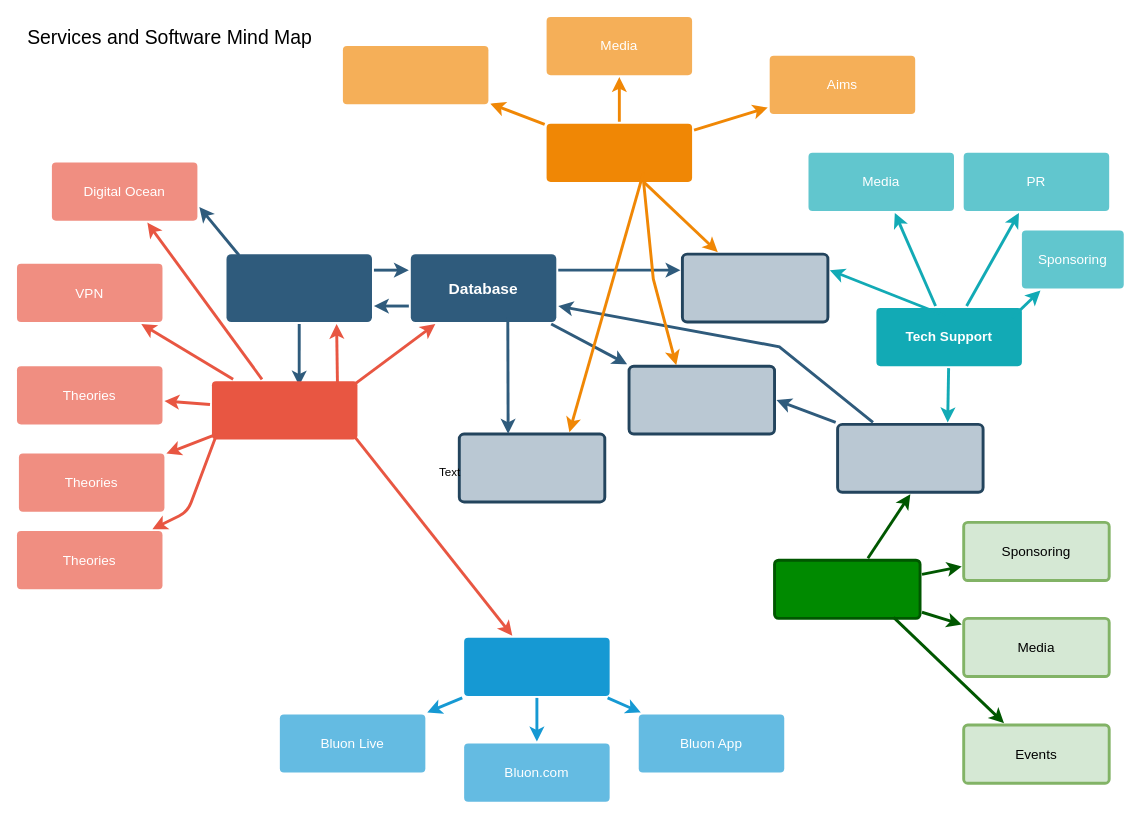
Some shapes in this 1140 by 818 pixel diagram are drawn without their labels. Here are the shapes that lost their labels. From the top down, the box of each, then its label:
(546, 123, 692, 181): Marketing
(226, 254, 372, 322): Source Code
(680, 252, 829, 323): Retool
(211, 381, 357, 439): Dev Teams
(627, 364, 776, 435): Hubspot
(457, 432, 606, 503): Airbase
(836, 422, 984, 493): RingCentral
(773, 558, 921, 619): Memex
(464, 637, 609, 695): Bluon
